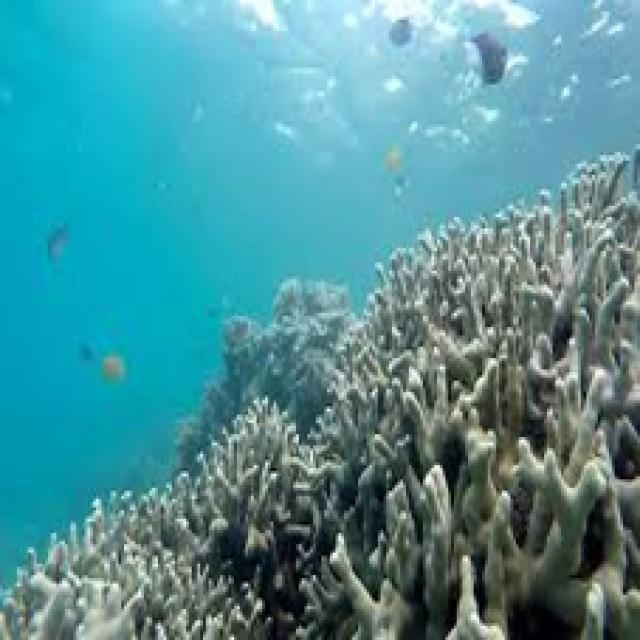Bleached: (209, 398, 640, 640), (379, 252, 640, 410), (452, 441, 640, 640), (48, 539, 246, 640), (197, 401, 311, 552), (78, 474, 230, 554), (1, 579, 145, 640), (425, 198, 578, 255), (565, 158, 640, 259), (333, 311, 386, 421)
